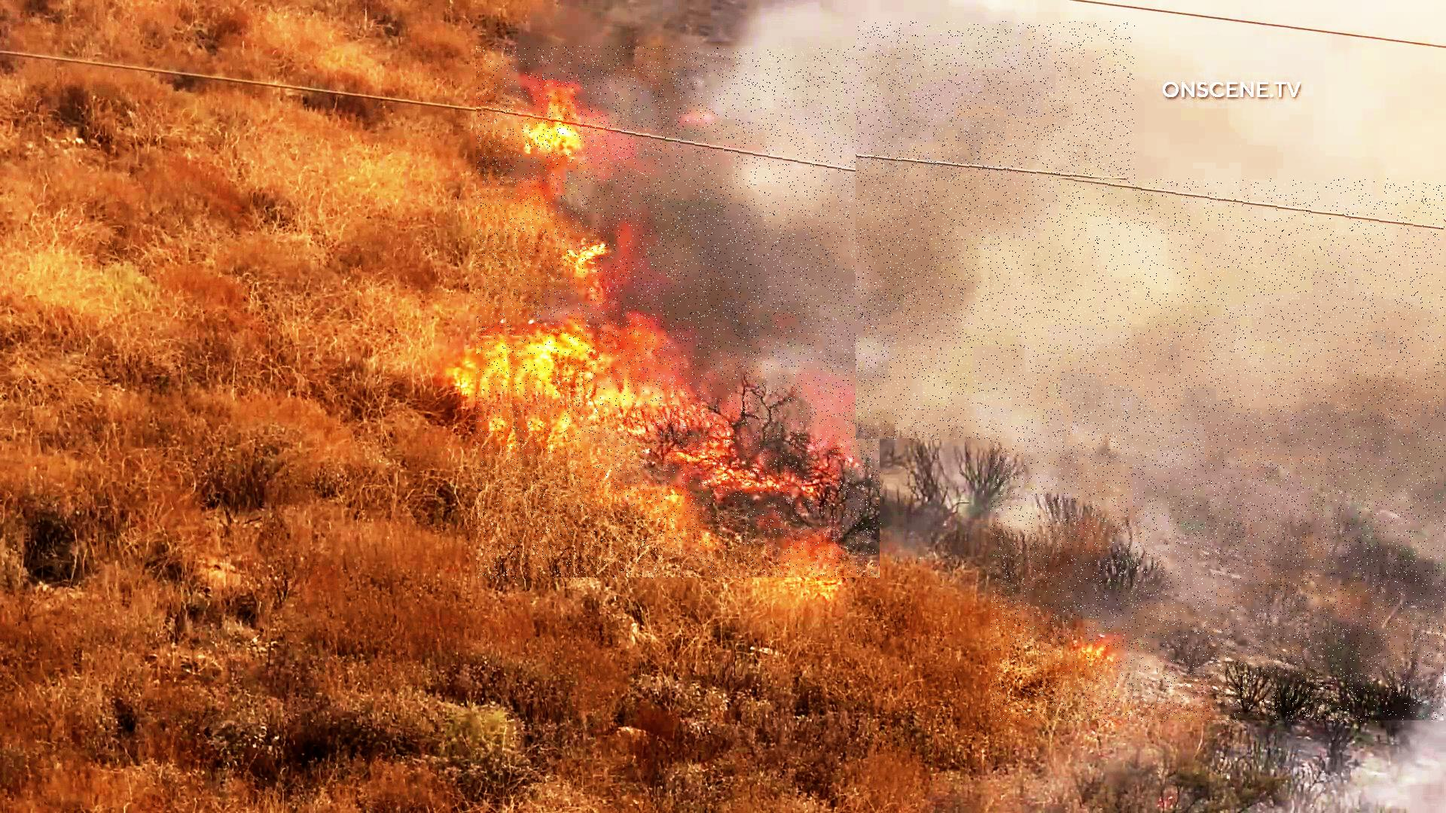fire: (477, 47, 882, 580)
smoke: (991, 179, 1446, 723), (858, 21, 1136, 440)
